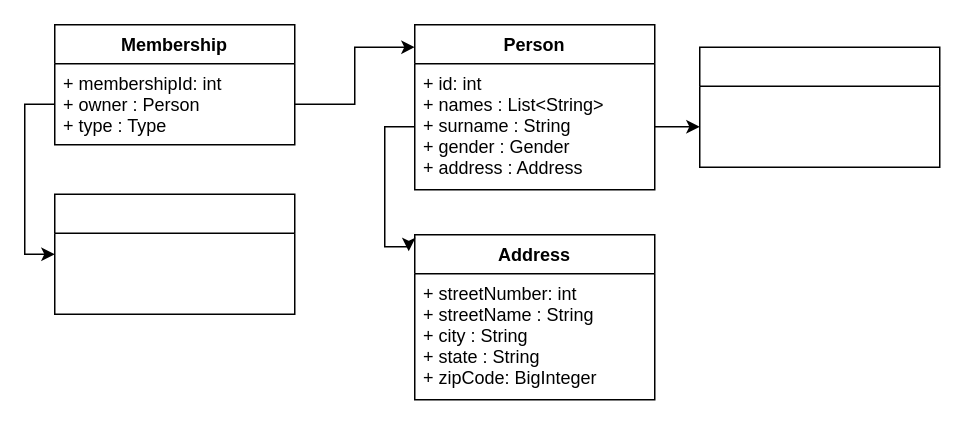
This 965x425 diagram has some shape labels left out. The centre of each missing label's shape, as x and y in pixels:
"Gender" belongs at pixel 819 106.
"Type" belongs at pixel 174 253.
